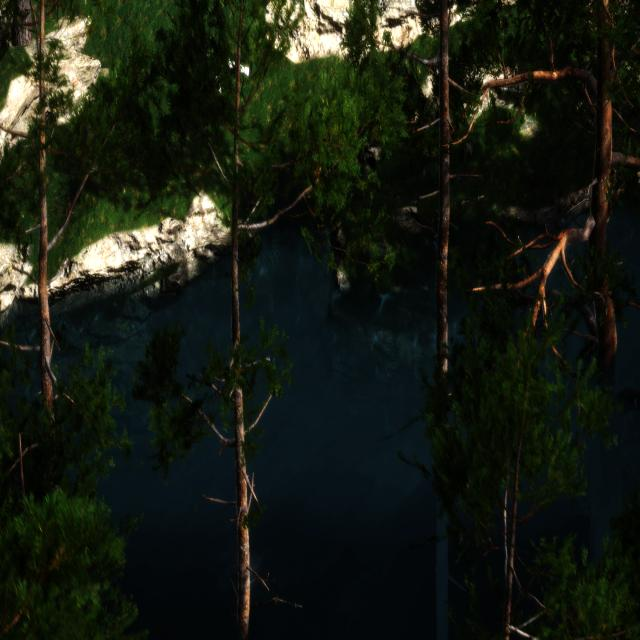Human: (205, 32, 255, 100)
